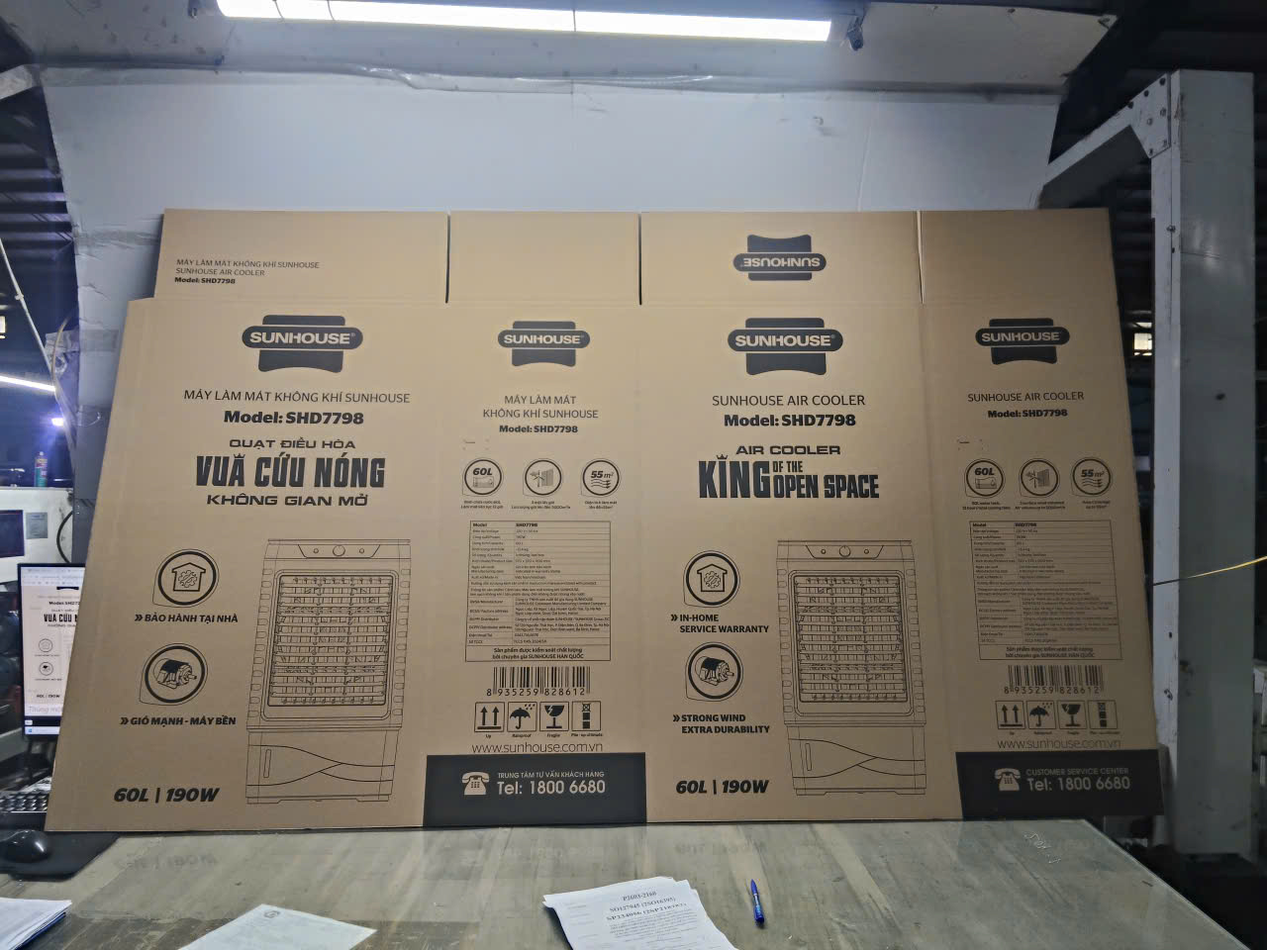box: (37, 195, 1162, 832)
